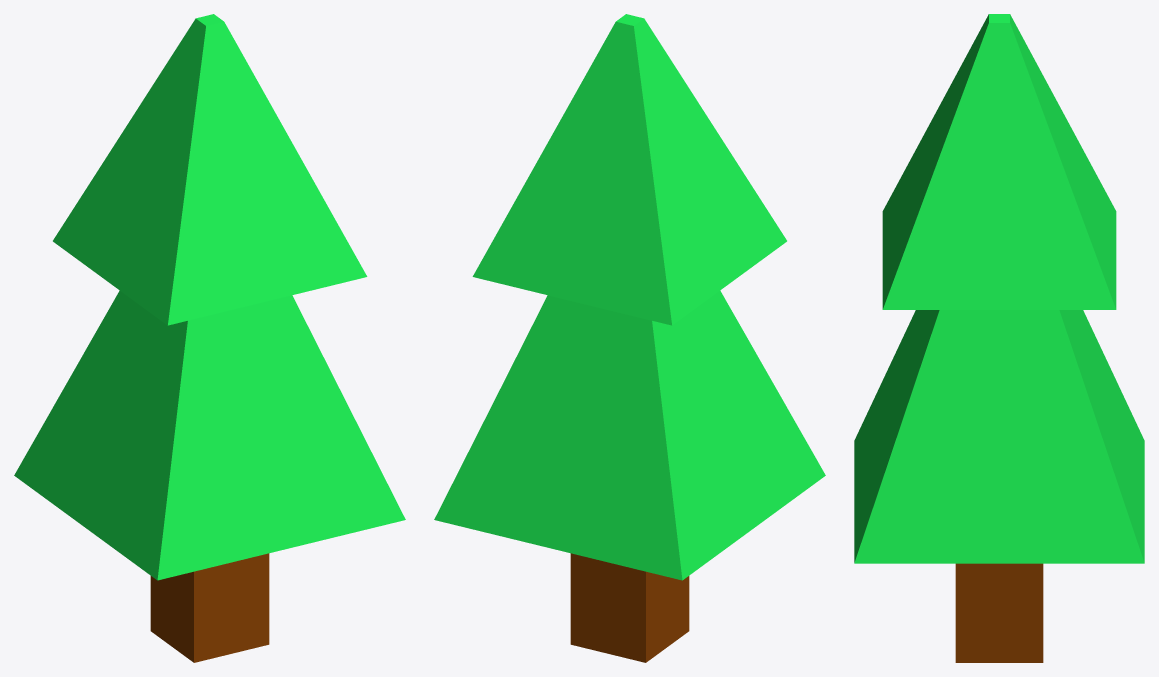
File: elka5.fbx
3 renders of one model, left to right at view 1: azimuth 30°, elevation 25°; view 2: azimuth 150°, elevation 25°; view 3: azimuth 270°, elevation 25°, orthographic.
Visible parts, largest first — view 1: elka.005; view 2: elka.005; view 3: elka.005.
Boxes of the visible parts, x1,y1,x2,y2 form: elka.005: [14, 14, 405, 662]; elka.005: [434, 14, 825, 662]; elka.005: [854, 14, 1144, 662].
Size of the model in its own units: 101 by 240 by 101.
